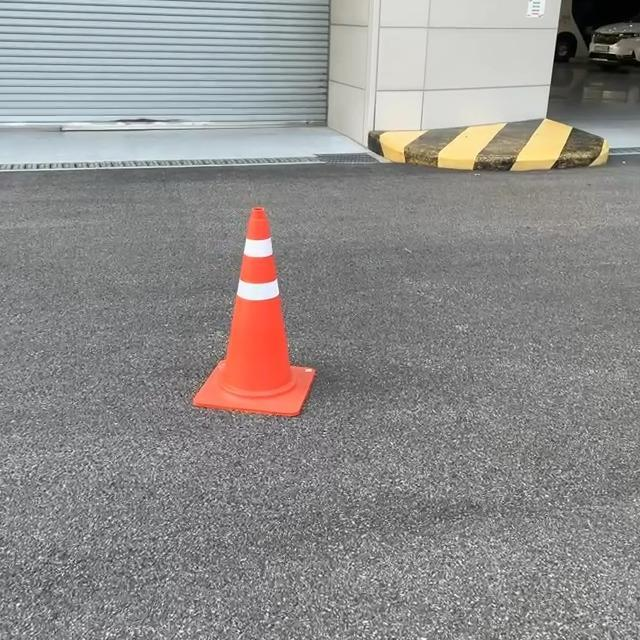fallen_object: (176, 200, 385, 432)
